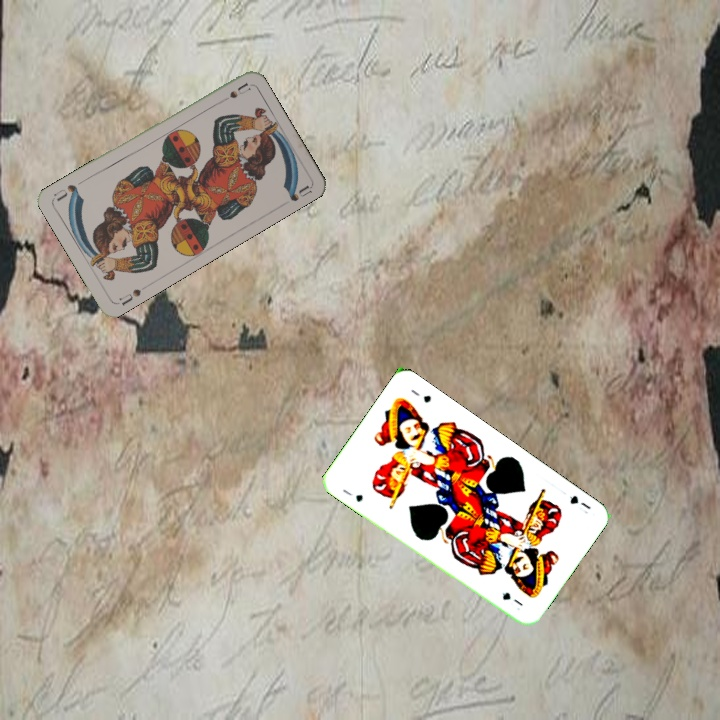GU: (565, 491, 594, 516), (338, 485, 366, 505)
SU: (214, 79, 252, 107), (115, 285, 143, 308)
